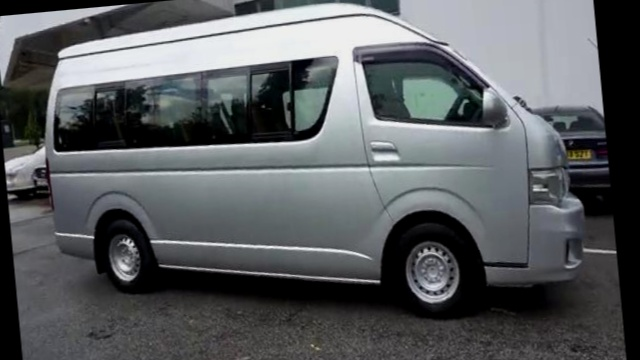van: (31, 0, 595, 341)
